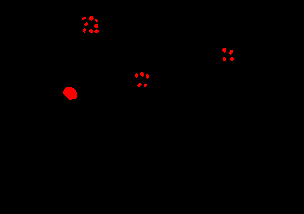Target: (63, 87, 77, 100), (89, 16, 94, 21), (94, 29, 99, 33), (222, 48, 226, 53), (229, 50, 233, 55), (140, 72, 144, 77), (137, 83, 142, 87), (84, 22, 88, 26), (94, 24, 98, 28), (89, 29, 93, 33), (230, 57, 234, 61), (83, 28, 86, 33), (135, 73, 138, 78), (146, 74, 149, 79), (82, 17, 86, 20), (223, 57, 226, 61), (95, 19, 98, 22), (144, 84, 147, 87)
